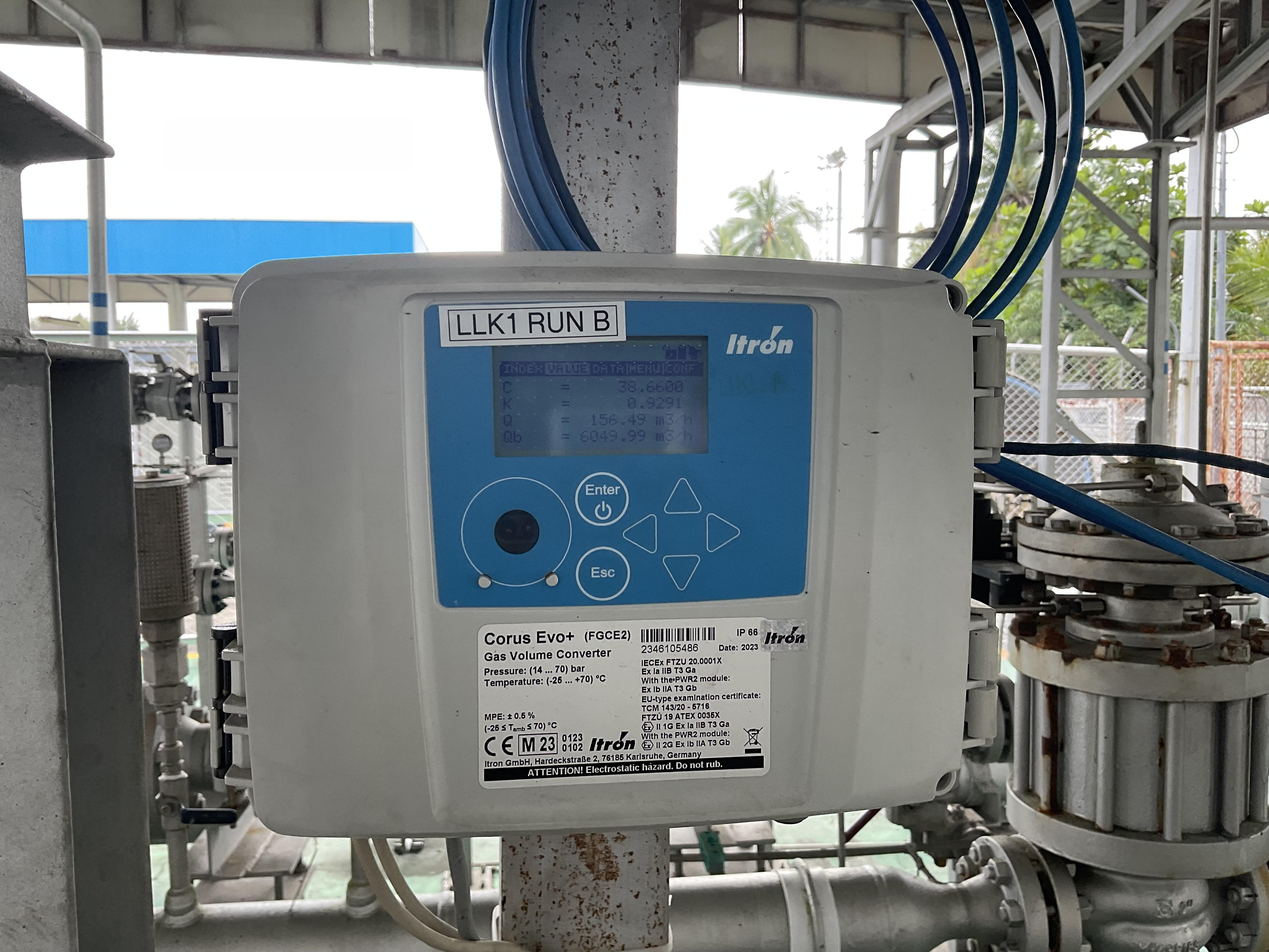digital_screen: (493, 334, 710, 457)
